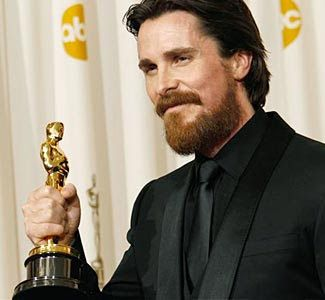hand: (25, 191, 77, 237)
